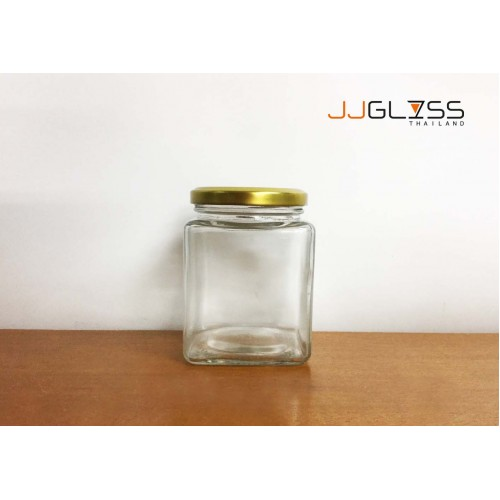glass_bottle: (178, 180, 315, 372)
